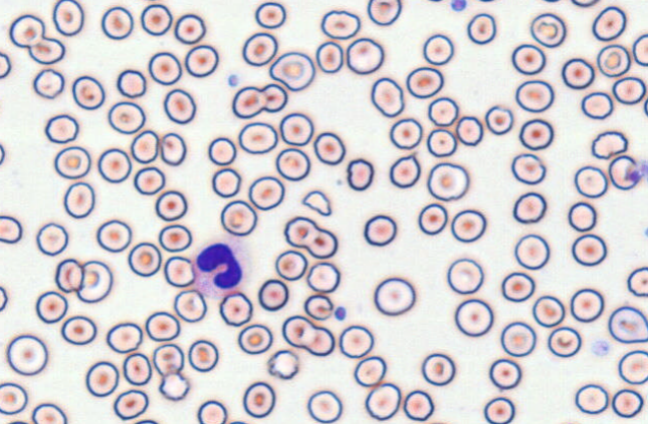GRAN: (191, 238, 254, 297)
PLT: (588, 337, 609, 359), (333, 305, 347, 321), (451, 0, 467, 14), (637, 161, 648, 180), (227, 71, 240, 86)
RBC: (5, 333, 48, 376), (269, 51, 315, 91), (373, 276, 415, 316), (426, 162, 469, 201), (76, 259, 113, 303), (454, 298, 493, 337), (608, 305, 647, 343), (364, 382, 401, 420), (346, 37, 384, 74), (220, 199, 257, 236), (446, 257, 483, 294), (370, 77, 404, 117), (514, 233, 550, 270), (238, 121, 278, 154), (500, 321, 536, 357), (530, 12, 566, 48), (107, 100, 145, 134), (53, 145, 91, 179), (515, 79, 554, 112), (248, 175, 284, 210), (9, 13, 45, 48), (591, 5, 626, 41), (85, 360, 119, 397), (569, 287, 604, 322), (127, 241, 161, 277), (608, 154, 642, 190), (97, 147, 131, 183), (338, 324, 374, 358), (306, 389, 342, 423), (450, 208, 486, 242), (242, 381, 275, 418), (405, 66, 443, 98), (320, 9, 360, 39), (275, 147, 310, 181), (242, 32, 277, 66), (147, 51, 182, 85), (71, 75, 105, 110), (96, 219, 132, 252), (163, 88, 196, 124), (571, 233, 607, 266), (106, 321, 143, 353), (63, 181, 95, 218), (421, 352, 455, 386), (279, 112, 313, 146), (511, 152, 546, 185), (573, 165, 608, 198), (100, 5, 133, 40), (52, 0, 84, 36), (281, 314, 315, 347), (219, 292, 252, 326), (35, 222, 68, 256), (184, 44, 218, 77), (596, 44, 630, 77), (518, 118, 553, 150), (144, 310, 180, 341), (60, 315, 97, 345), (35, 290, 68, 323), (173, 289, 206, 322), (232, 86, 266, 118), (306, 261, 340, 293), (313, 131, 345, 165), (512, 191, 546, 223), (363, 214, 397, 246), (511, 43, 545, 75), (113, 389, 148, 420), (237, 323, 272, 354), (574, 383, 609, 414), (591, 130, 628, 159), (305, 227, 338, 259), (353, 355, 386, 387), (274, 249, 307, 281), (154, 189, 187, 221), (532, 295, 565, 327), (389, 117, 422, 149), (140, 3, 172, 36), (561, 57, 594, 89), (283, 216, 317, 247), (501, 271, 535, 302), (389, 154, 420, 188), (547, 326, 581, 357), (617, 349, 647, 384), (44, 113, 79, 143), (28, 36, 65, 64), (152, 343, 184, 375), (163, 255, 195, 287), (402, 389, 434, 421), (422, 33, 454, 65), (302, 325, 335, 356), (257, 278, 288, 311), (187, 339, 218, 372), (488, 358, 521, 389), (417, 202, 448, 235), (54, 258, 83, 293), (32, 68, 64, 99), (122, 352, 152, 385), (130, 129, 159, 163), (158, 223, 192, 252), (174, 13, 205, 44), (611, 388, 643, 418), (466, 12, 496, 44), (0, 381, 28, 415), (612, 76, 646, 104), (211, 167, 241, 198), (427, 96, 458, 126), (133, 166, 165, 195), (346, 158, 374, 191), (580, 91, 613, 119), (366, 0, 401, 26), (116, 68, 146, 98), (426, 128, 457, 157), (567, 201, 596, 232), (484, 104, 513, 135), (315, 41, 343, 73), (254, 1, 286, 29), (159, 132, 186, 165), (455, 115, 483, 146), (483, 396, 515, 423), (207, 136, 236, 165), (303, 293, 333, 320), (260, 83, 287, 112), (31, 402, 67, 423), (197, 399, 227, 423), (0, 214, 22, 243), (627, 266, 647, 296), (632, 33, 647, 66), (0, 51, 11, 78), (0, 285, 8, 312), (570, 0, 599, 7), (133, 418, 158, 424), (0, 142, 5, 165), (0, 93, 4, 119), (643, 97, 648, 117), (6, 420, 29, 424), (227, 420, 250, 424), (541, 0, 561, 3), (475, 0, 502, 2), (422, 0, 446, 2)
Schistocyte: (269, 349, 299, 380), (159, 372, 191, 400), (302, 189, 333, 217)
